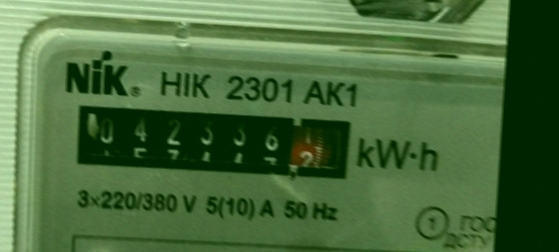0: (98, 114, 115, 143)
1: (301, 121, 314, 143)
2: (166, 114, 184, 144), (298, 146, 315, 165)
3: (230, 115, 248, 146), (198, 115, 215, 144)
4: (132, 111, 151, 141)
6: (264, 119, 282, 150)
screen: (64, 89, 364, 188)
